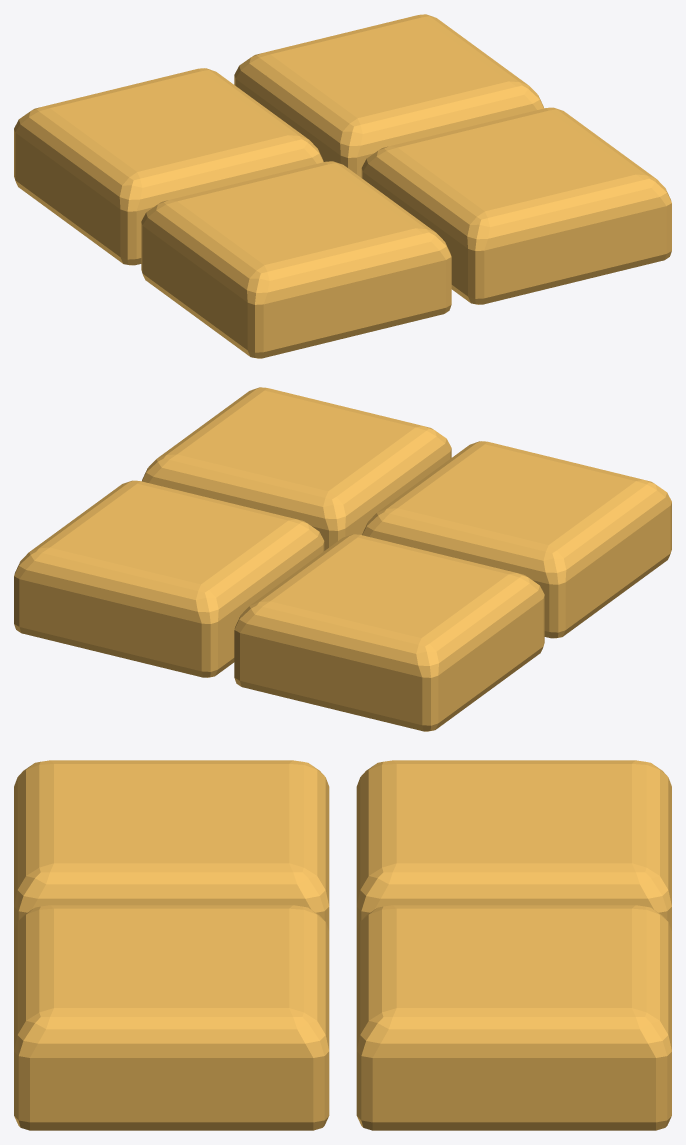
Rendered from KO_Tetris_3.fbx.
3 views of the same model, one above another, from view 1: azimuth 30°, elevation 25°; view 2: azimuth 150°, elevation 25°; view 3: azimuth 270°, elevation 25° (orthographic). The views are drawn at different scales.
Visible parts, largest first — view 1: Tetris_O; view 2: Tetris_O; view 3: Tetris_O.
Part boxes in pixels (x1,y1,x2,y2): Tetris_O: (14,14,671,358); Tetris_O: (14,387,671,731); Tetris_O: (14,760,671,1130).
Bounding box in the file's own units: 192 × 36 × 192.
